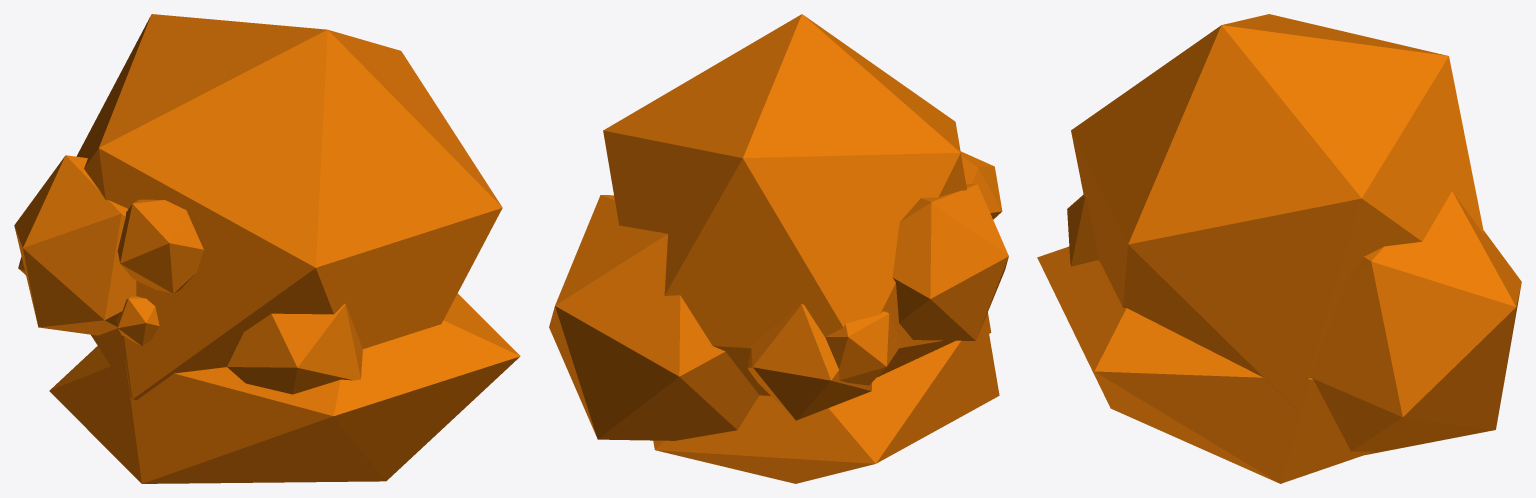
Rendered from Mine2.fbx.
The picture shows the model from 3 angles, left to right: view 1: azimuth 30°, elevation 25°; view 2: azimuth 150°, elevation 25°; view 3: azimuth 270°, elevation 25°; orthographic projection. The views are drawn at different scales.
Parts seen in each view (by area): view 1: pPlatonic10; view 2: pPlatonic10; view 3: pPlatonic10.
Part boxes in pixels (x1,y1,x2,y2): pPlatonic10: (14,14,520,483); pPlatonic10: (549,14,1008,483); pPlatonic10: (1037,14,1521,483).
Size of the model in its own units: 4.61 by 4.53 by 4.52.
